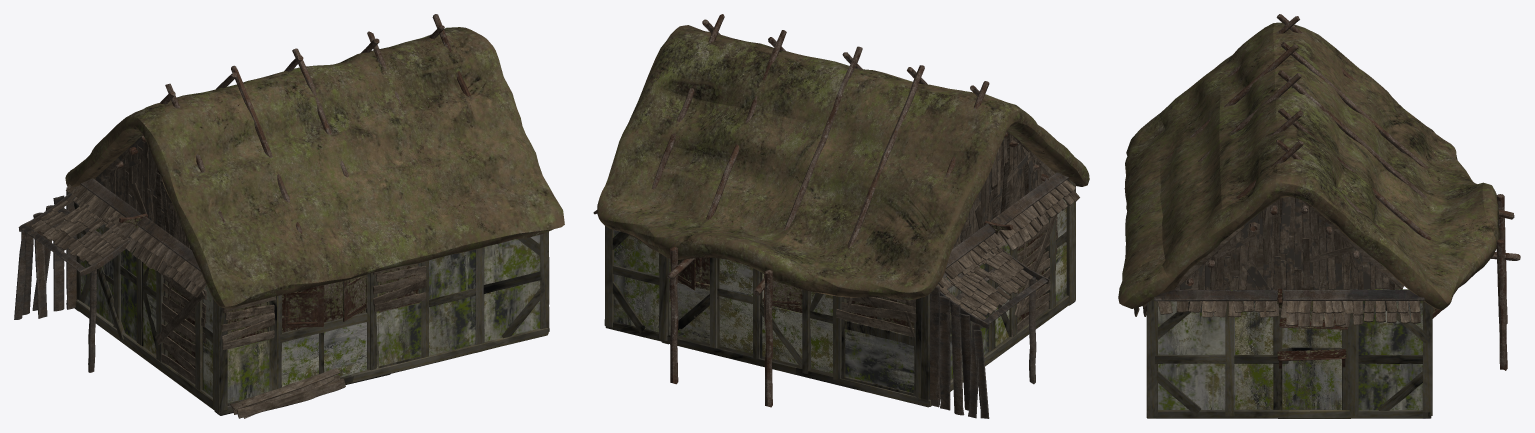
The model's file is house(3).fbx.
3 views of the same model, side by side, from view 1: azimuth 30°, elevation 25°; view 2: azimuth 150°, elevation 25°; view 3: azimuth 270°, elevation 25° (orthographic). The views are drawn at different scales.
Parts seen in each view (by area): view 1: polySurface509, walls, polySurface1004, windows_and_door__Blocked_with_Wooden_Planks_Stock, fornt_tile_part_2_holder_woods, front_tile_part_1, right_side_windows1, front_gable, front_tile_part_2, roof_column; view 2: polySurface509, polySurface1004, walls, fornt_tile_part_2_holder_woods, roof_column, front_tile_part_1, windows_and_door__Blocked_with_Wooden_Planks_Stock, front_gable, front_tile_part_2, left_side_window; view 3: polySurface509, walls, bakc_gable, polySurface1004, back_tile, roof_column, left_side_window.
Part boxes in pixels (x1,y1,x2,y2): polySurface509: (65, 27, 564, 308); walls: (81, 195, 540, 402); polySurface1004: (74, 198, 549, 415); windows_and_door__Blocked_with_Wooden_Planks_Stock: (155, 261, 426, 418); fornt_tile_part_2_holder_woods: (14, 187, 135, 372); front_tile_part_1: (66, 178, 206, 297); right_side_windows1: (168, 263, 420, 371); front_gable: (95, 135, 191, 249); front_tile_part_2: (31, 194, 133, 265); roof_column: (115, 14, 470, 233); polySurface509: (597, 25, 1089, 300); polySurface1004: (604, 179, 1075, 407); walls: (613, 198, 1066, 392); fornt_tile_part_2_holder_woods: (930, 248, 1049, 418); roof_column: (652, 14, 1048, 407); front_tile_part_1: (924, 172, 1079, 287); windows_and_door__Blocked_with_Wooden_Planks_Stock: (836, 212, 1057, 337); front_gable: (953, 131, 1054, 248); front_tile_part_2: (937, 248, 1033, 320); left_side_window: (677, 257, 914, 327); polySurface509: (1118, 22, 1500, 309); walls: (1158, 289, 1422, 410); bakc_gable: (1175, 196, 1403, 291); polySurface1004: (1146, 289, 1432, 418); back_tile: (1154, 288, 1424, 327); roof_column: (1165, 14, 1520, 370); left_side_window: (1277, 308, 1442, 368).
Bounding box in the file's own units: 1399 × 922 × 1231.
